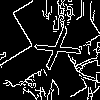X: (25, 25, 82, 77)
